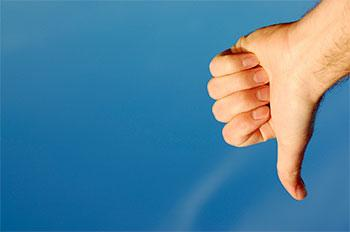thumbsdown: (205, 20, 311, 201)
